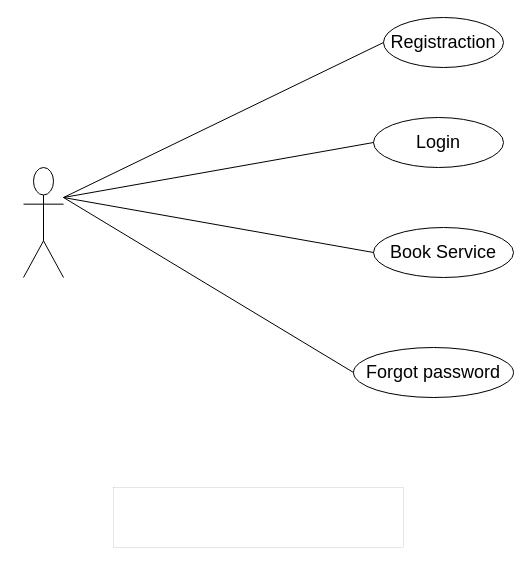
Image size: 531x565. Some labels were removed from this diagram. The centre of each missing label's shape, as x and y in pixels:
Customer: (x=43, y=222)
Customer Use Case Diagram: (x=258, y=517)
